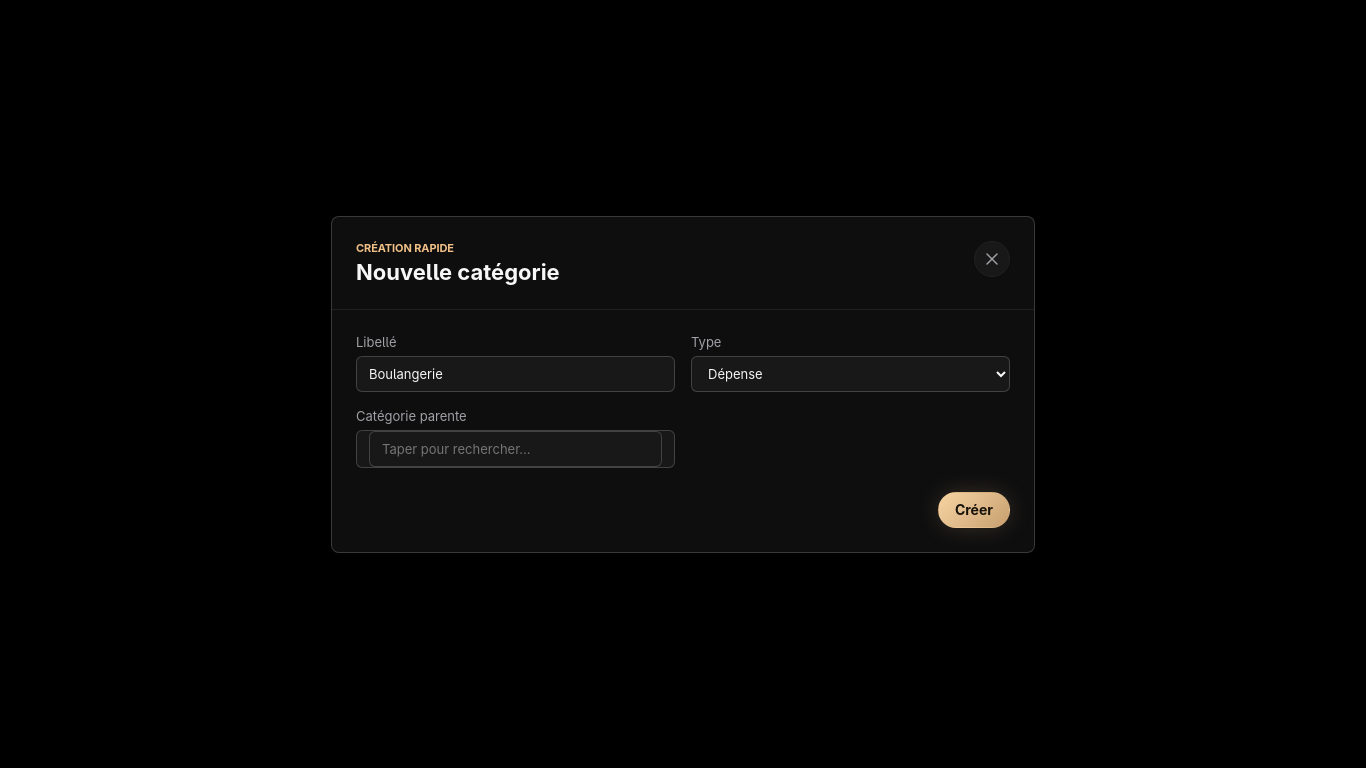
Test case: QuickCategoryDialog › keeps the dialog open with an actionable message after a 403
Click the button "Créer": (974, 510) [938, 492, 1010, 528]
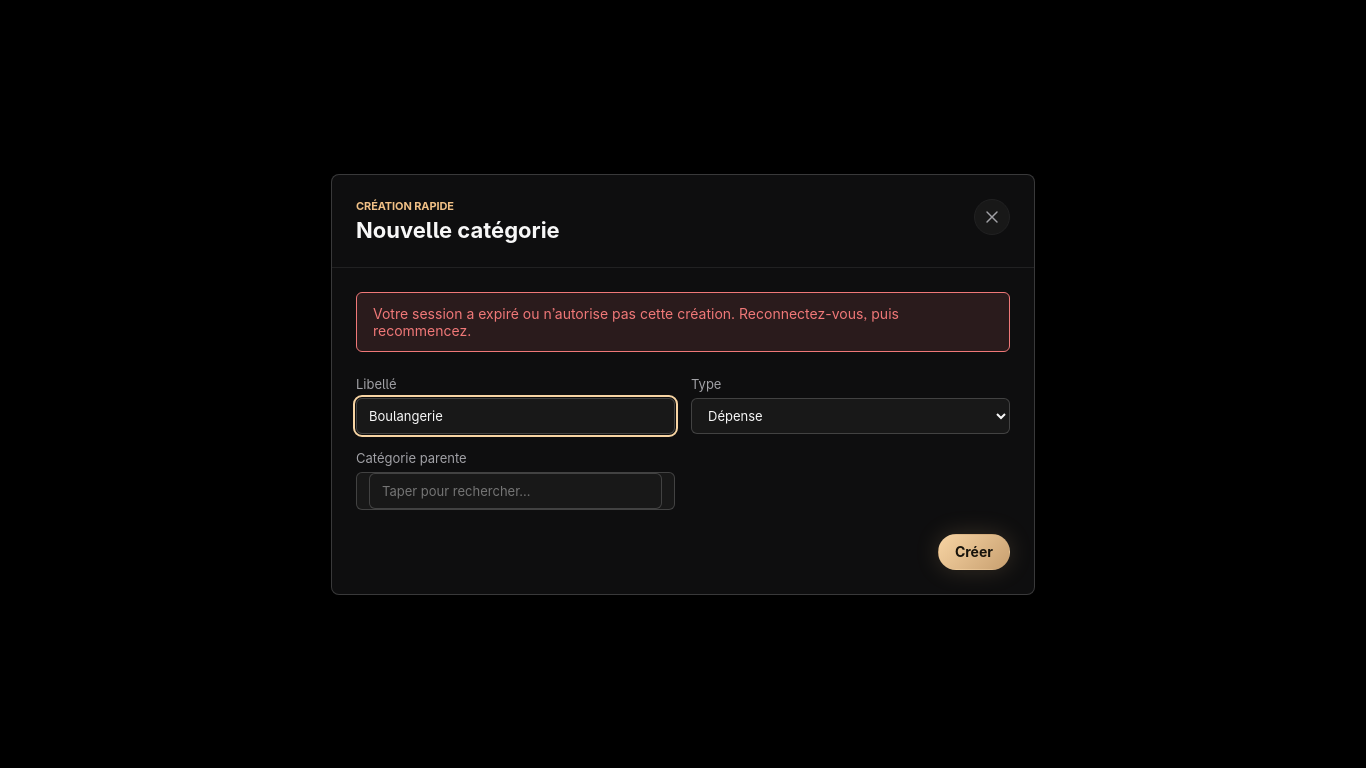
Check: the dialog "Nouvelle catégorie" is shown, box [331, 174, 1035, 594]
Check: the message shows "Votre session a expiré ou n’autorise pas cette création.", box [373, 304, 899, 338]
